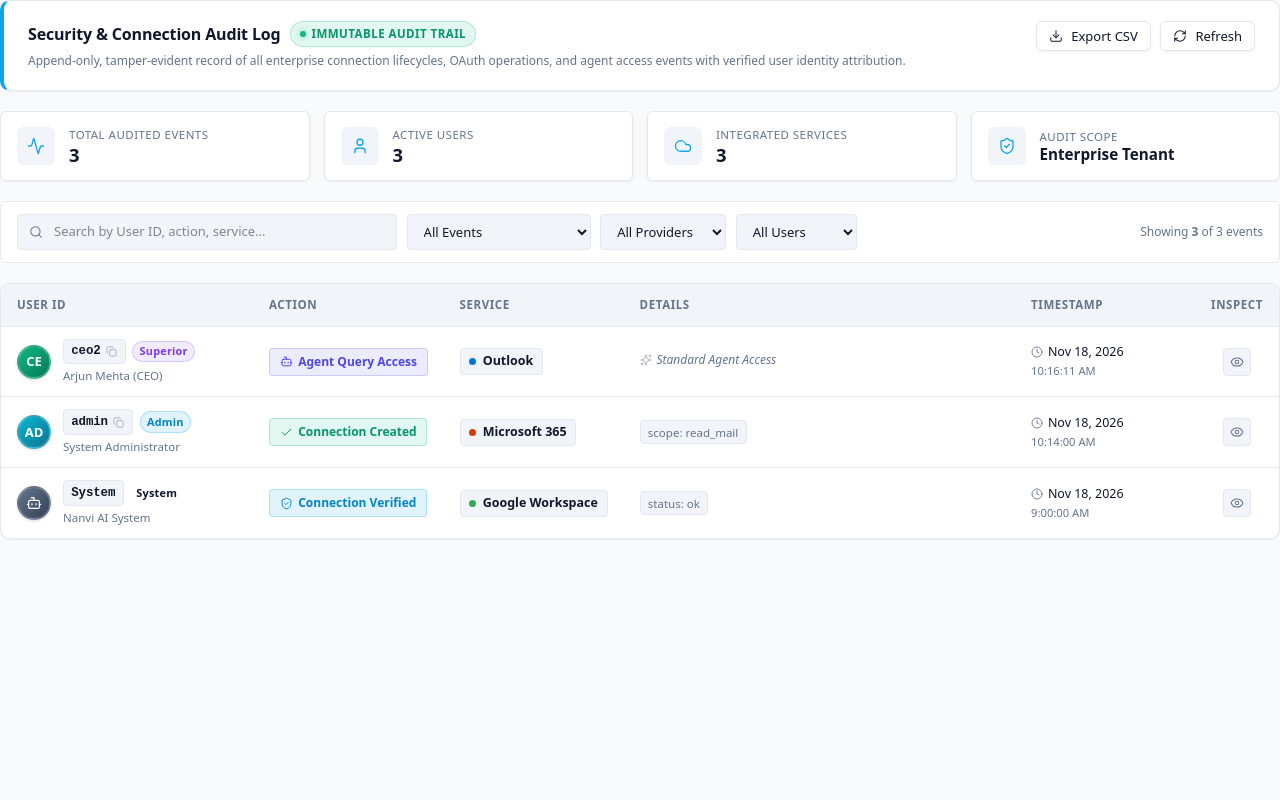
AuditLogView Component › opens the inspection modal when clicking the inspect button
Expected: the text "ceo2" is shown, [63,338,126,364]
Step 1. Click the button titled "Inspect full audit event details" in the row of "ceo2" → (1237,362), box [1223,348,1251,376]
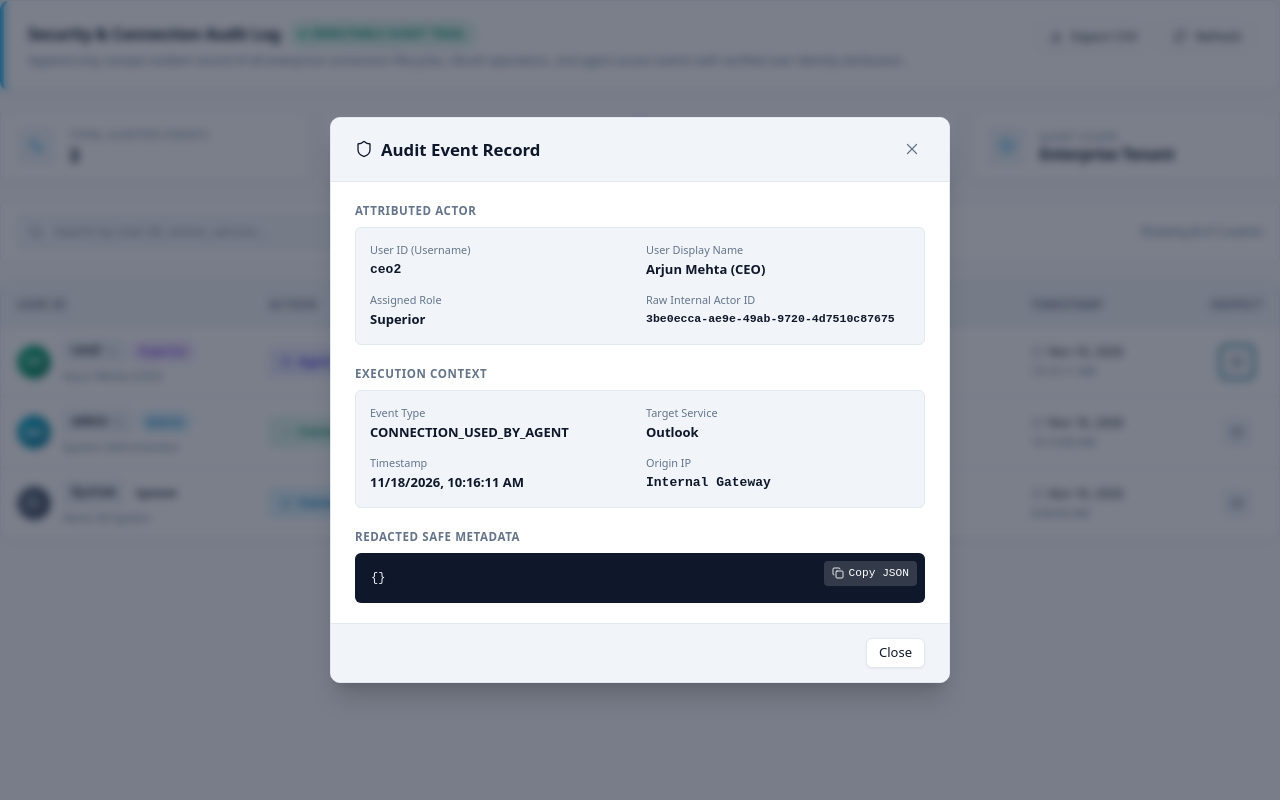
Result: the heading "Audit Event Record" is shown at [355,137,540,162]
Result: the heading "Attributed Actor" is shown at [355,203,476,218]
Result: the text "3be0ecca-ae9e-49ab-9720-4d7510c87675" is shown at [646,310,910,328]
